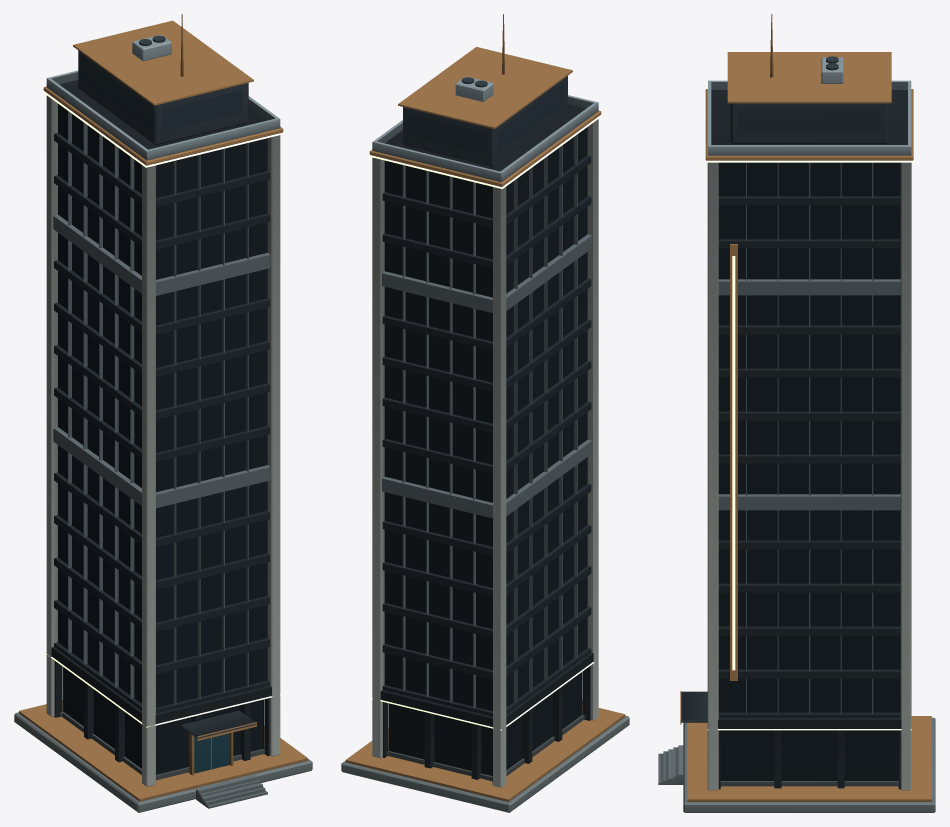
File: data-tower-b.lod1.glb
3 renders of one model, left to right at view 1: azimuth 30°, elevation 25°; view 2: azimuth 150°, elevation 25°; view 3: azimuth 270°, elevation 25°, orthographic. The views are drawn at different scales.
Visible parts, largest first — view 1: structure; view 2: structure; view 3: structure.
Boxes of the visible parts, x1=… form: structure: x1=14, y1=14, x2=312, y2=812; structure: x1=341, y1=14, x2=629, y2=812; structure: x1=658, y1=14, x2=935, y2=812.
Bounding box in the file's own units: 13 × 52.89 × 17.6.
